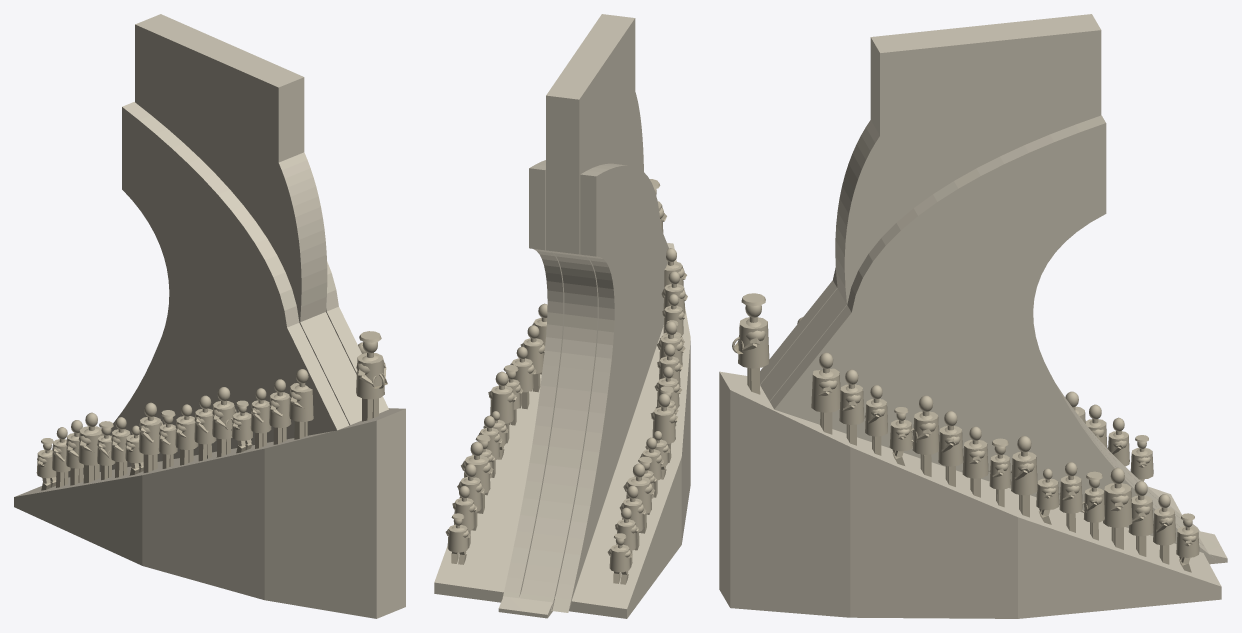
File: padrao-descobrimentos-near.glb
3 renders of one model, left to right at view 1: azimuth 30°, elevation 25°; view 2: azimuth 150°, elevation 25°; view 3: azimuth 270°, elevation 25°, orthographic. The views are drawn at different scales.
Visible parts, largest first — view 1: padrao-descobrimentos-0-stone, padrao-descobrimentos-0-carving; view 2: padrao-descobrimentos-0-stone, padrao-descobrimentos-0-carving; view 3: padrao-descobrimentos-0-stone, padrao-descobrimentos-0-carving.
Boxes of the visible parts, x1,y1,x2,y2 form: padrao-descobrimentos-0-stone: (14, 14, 405, 618); padrao-descobrimentos-0-carving: (36, 331, 386, 490); padrao-descobrimentos-0-stone: (434, 14, 690, 618); padrao-descobrimentos-0-carving: (445, 179, 687, 584); padrao-descobrimentos-0-stone: (719, 14, 1227, 618); padrao-descobrimentos-0-carving: (732, 293, 1199, 572).
Size of the model in its own units: 23.6 by 52 by 44.6.
